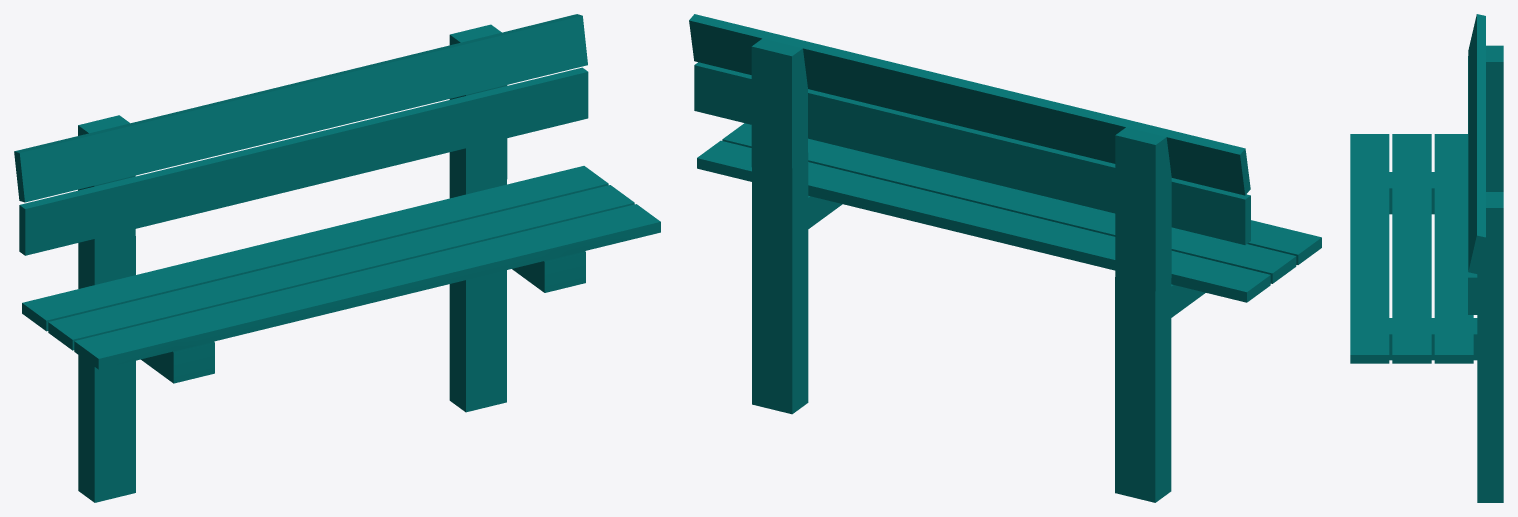
File: Bench.fbx
3 views of the same model, side by side, from view 1: azimuth 30°, elevation 25°; view 2: azimuth 150°, elevation 25°; view 3: azimuth 270°, elevation 25° (orthographic). The views are drawn at different scales.
Parts seen in each view (by area): view 1: Bench; view 2: Bench; view 3: Bench.
Boxes of the visible parts, x1,y1,x2,y2 form: Bench: (14, 14, 660, 502); Bench: (689, 14, 1321, 502); Bench: (1350, 14, 1503, 502).
Size of the model in its own units: 1.29 by 0.8046 by 0.3769.
